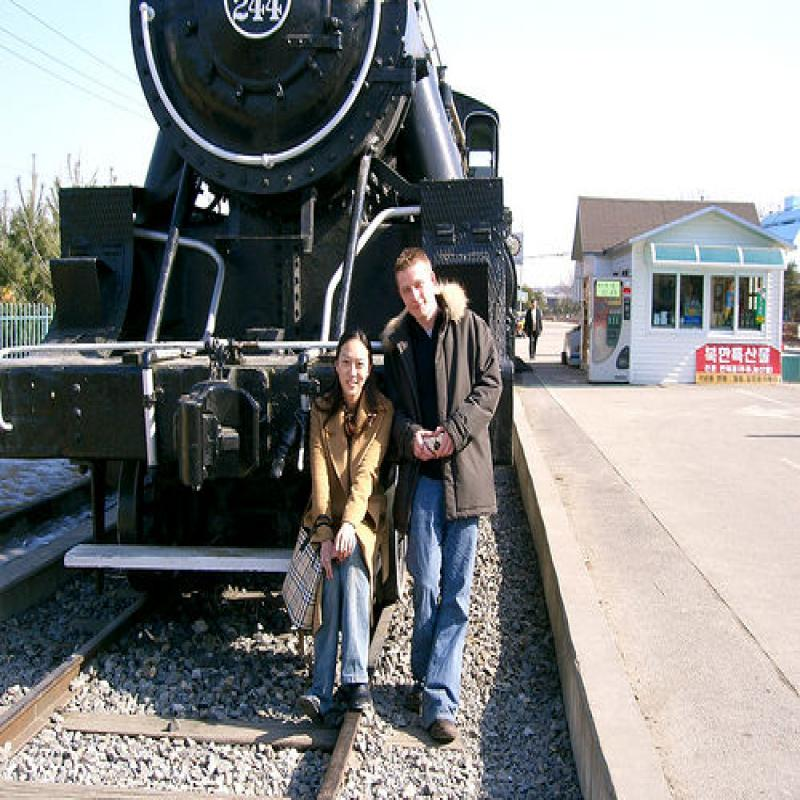train: (1, 1, 524, 605)
